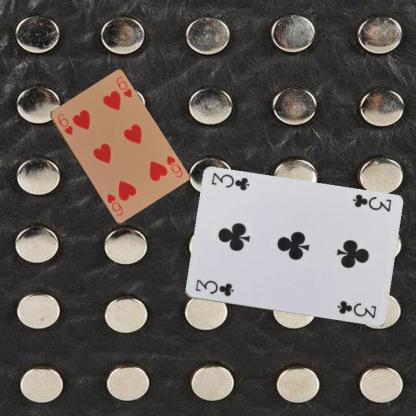3c: (350, 191, 392, 213), (192, 277, 235, 298)
6h: (164, 153, 184, 179), (55, 110, 74, 136)
